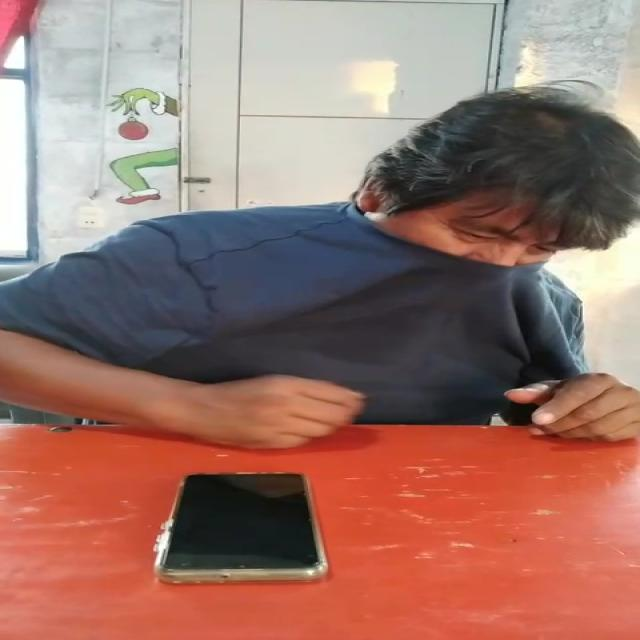8_ropa_rostro: (151, 202, 564, 341)
